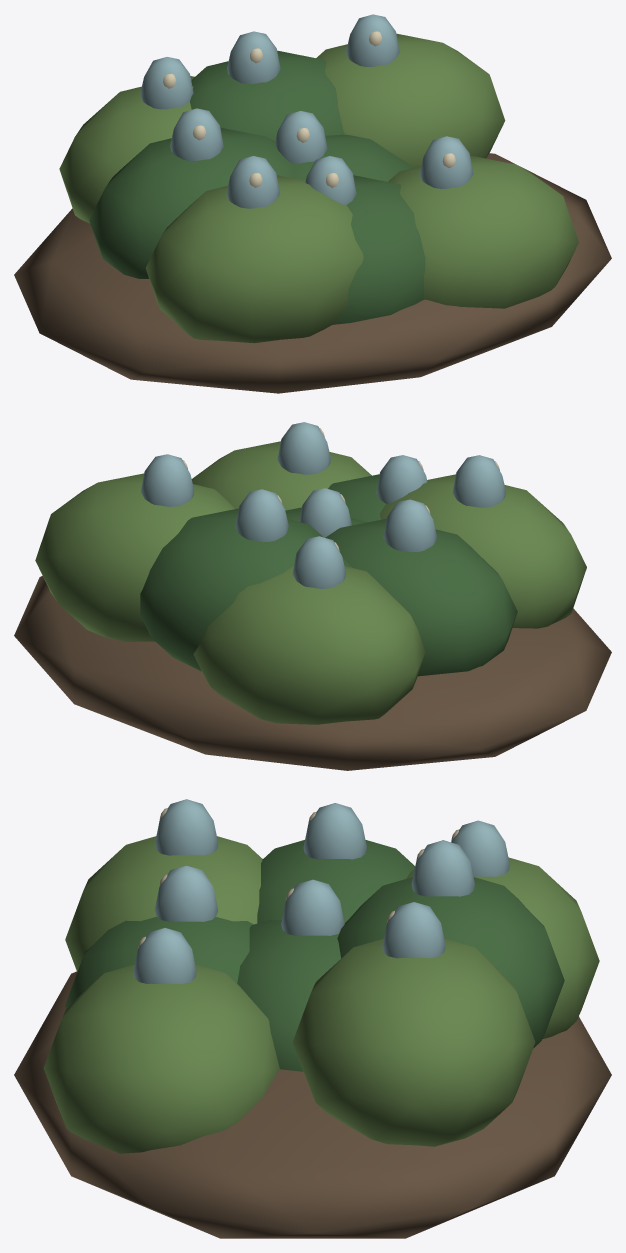
File: discovery-dew.glb
The picture shows the model from 3 angles, top to bottom: view 1: azimuth 30°, elevation 25°; view 2: azimuth 150°, elevation 25°; view 3: azimuth 270°, elevation 25°; orthographic projection. The views are drawn at different scales.
Parts seen in each view (by area): view 1: discovery-dew-visual; view 2: discovery-dew-visual; view 3: discovery-dew-visual.
Boxes of the visible parts, x1,y1,x2,y2 form: discovery-dew-visual: [14, 14, 611, 393]; discovery-dew-visual: [14, 422, 611, 770]; discovery-dew-visual: [14, 799, 611, 1238].
Bounding box in the file's own units: 0.8 × 0.359 × 0.64.
